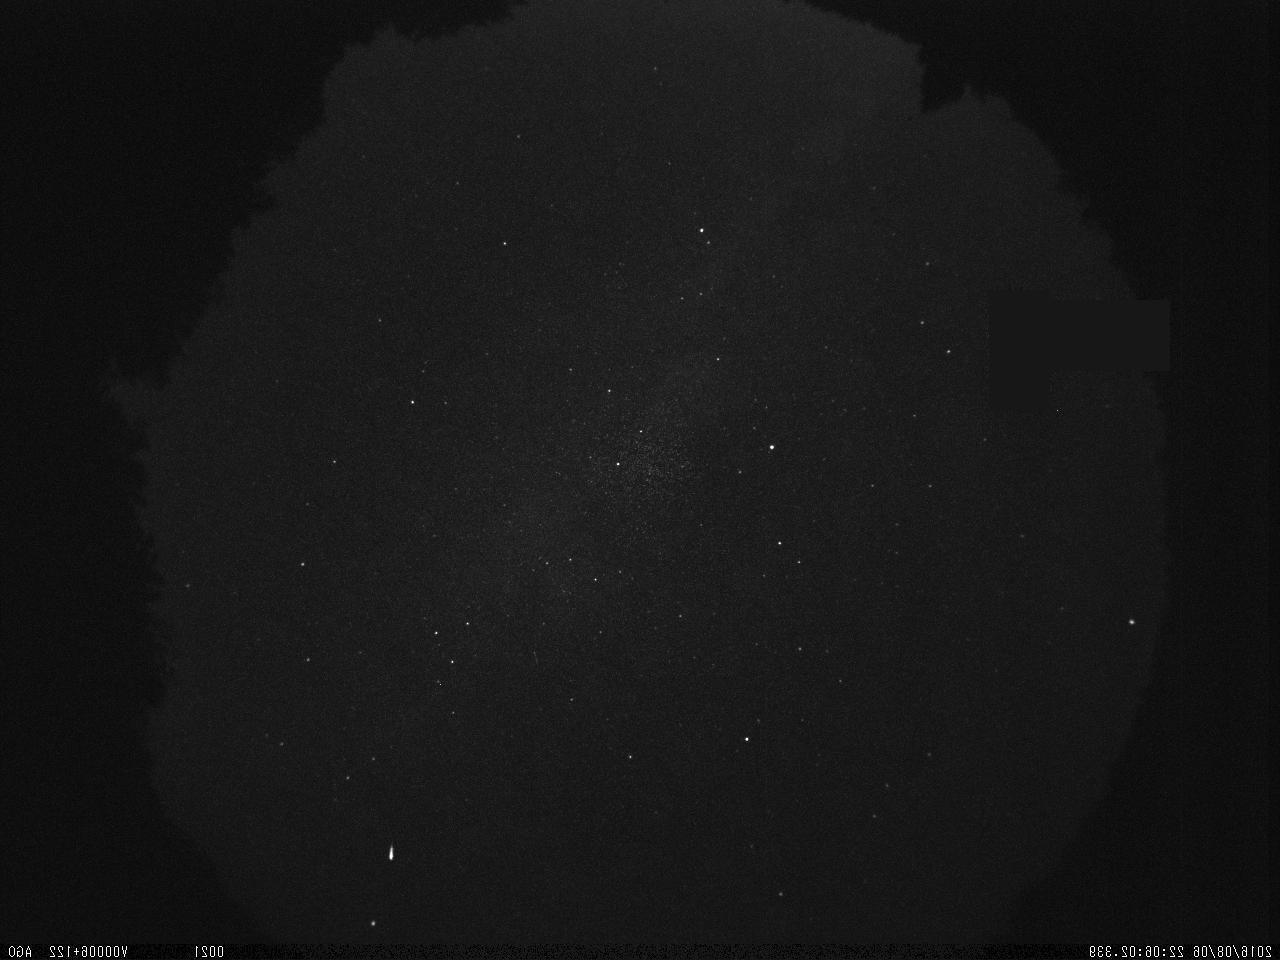meteor: (381, 838, 399, 869)
